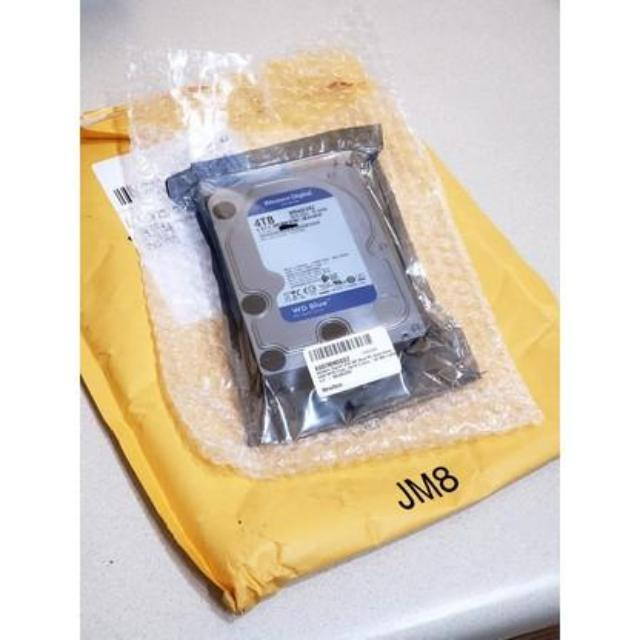DISK: (192, 148, 428, 394)
